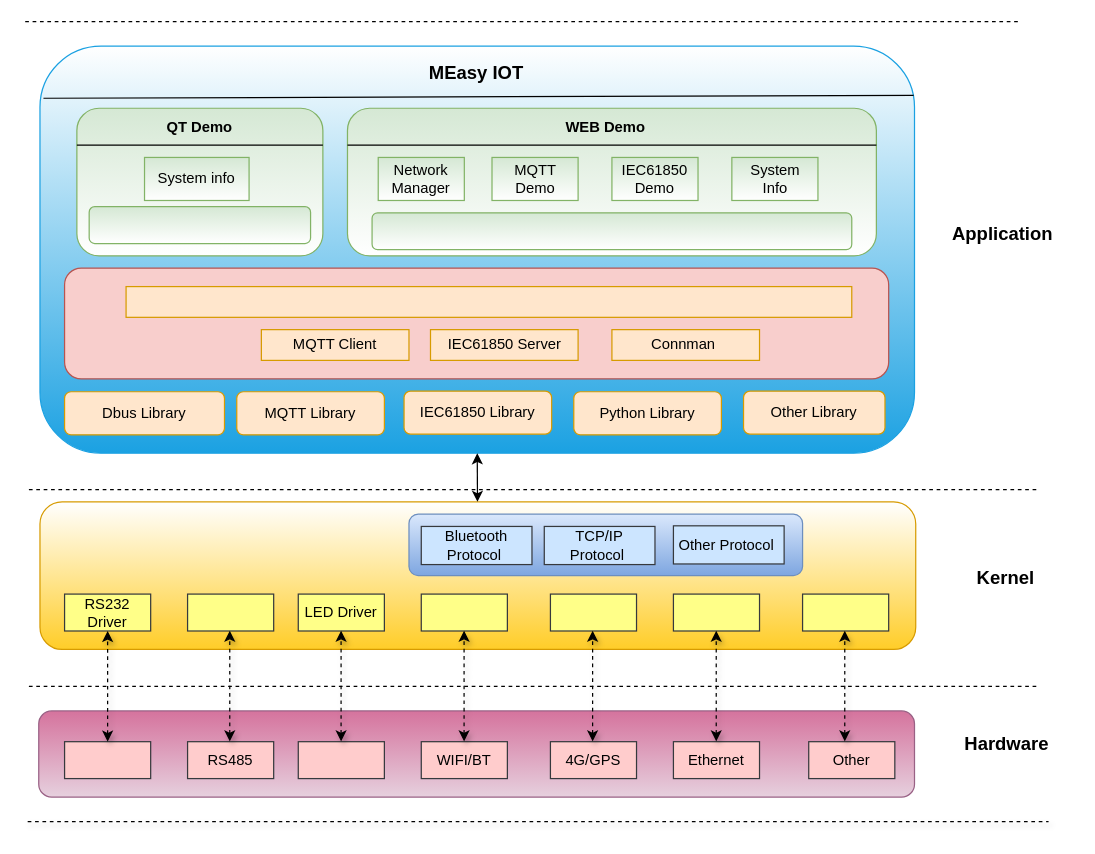
The diagram is 1095 pixels wide and 854 high, and some of its shapes have lost their labels. The centre of each missing label's shape, as x and y in pixels:
4G/GPS Driver: (716,612)
Dbus Dameon: (488,301)
Ethernet Driver: (593,612)
LED: (340,759)
Other Driver: (845,612)
Python2(Flask、Flask-Appbuilder、Bootstrap、JS...): (611,231)
QT5(Core Widgets... ): (199,224)
RS232: (107,759)
RS485 Driver: (230,612)
WIFI/BT Driver: (463,612)
